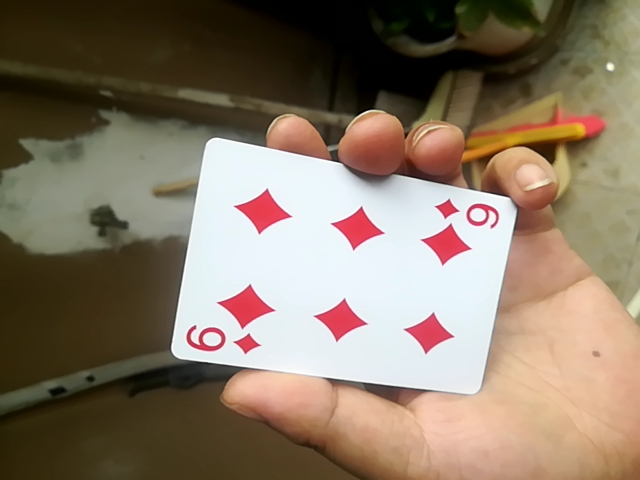fk 6: (165, 133, 513, 400)
